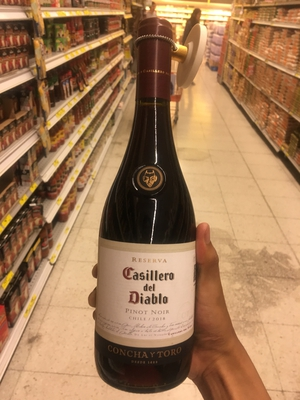casillero del diablo pinot noir: (88, 18, 207, 391)
